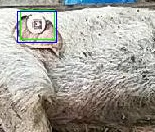text: (20, 10, 54, 39)
